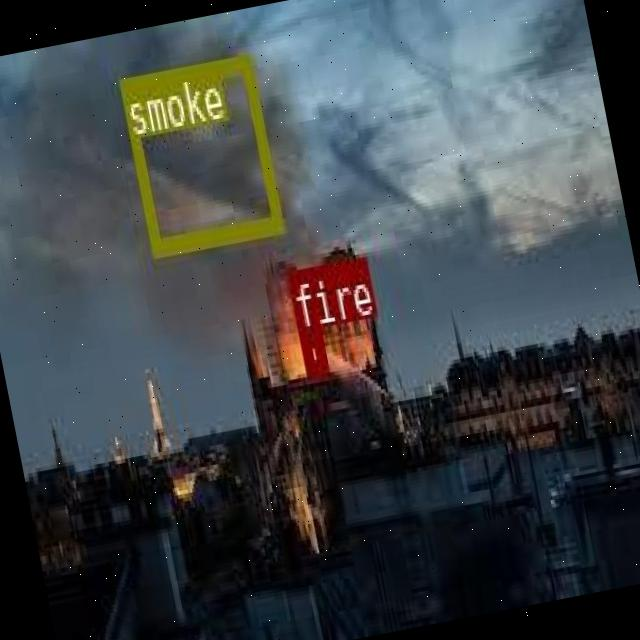fire: (297, 328, 326, 374)
smoke: (118, 54, 280, 253)
